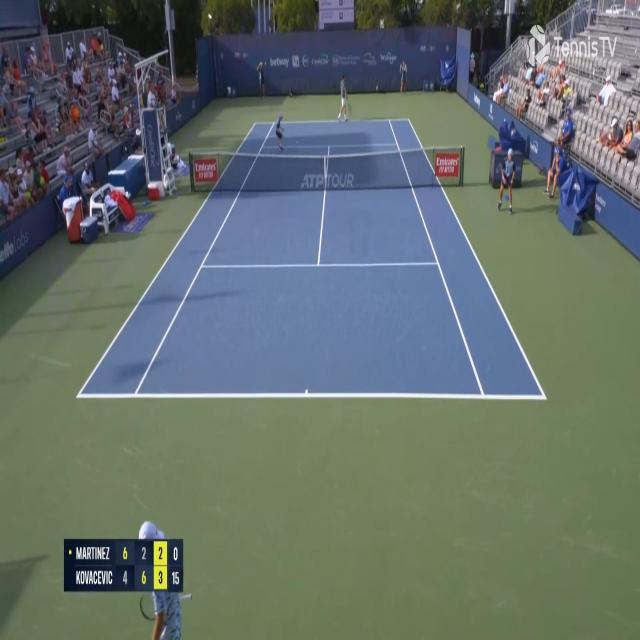tennis-player: (336, 70, 352, 124)
